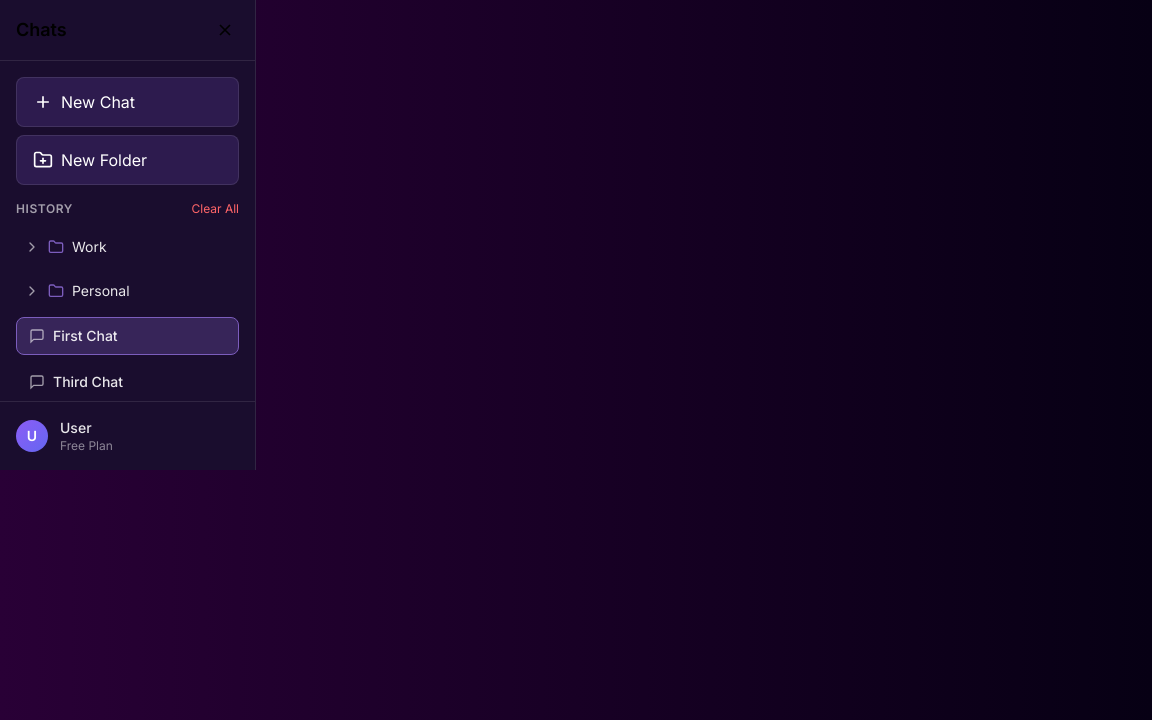
Test case: Sidebar Component › Folder Management › shows new folder input when New Folder button is clicked
The image size is (1152, 720).
Click the button "New Folder". click: [128, 160]
box: left=16, top=135, right=239, bottom=185
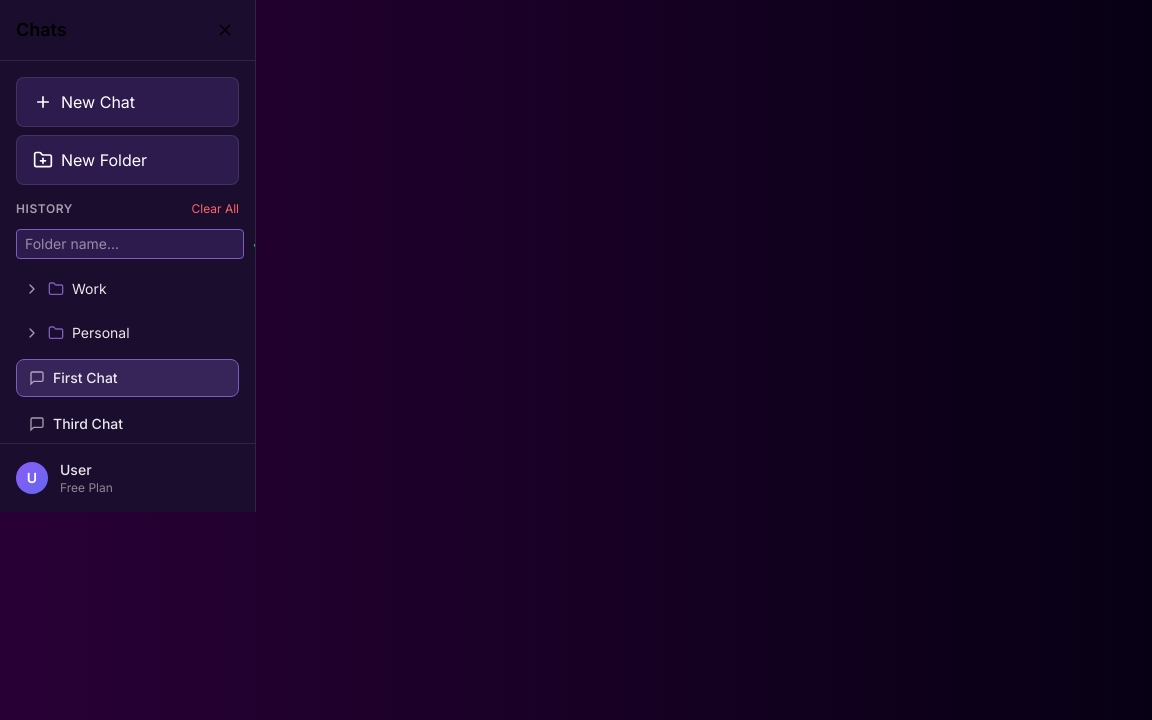
Now the field with placeholder "Folder name..." is shown, box left=16, top=229, right=244, bottom=259
